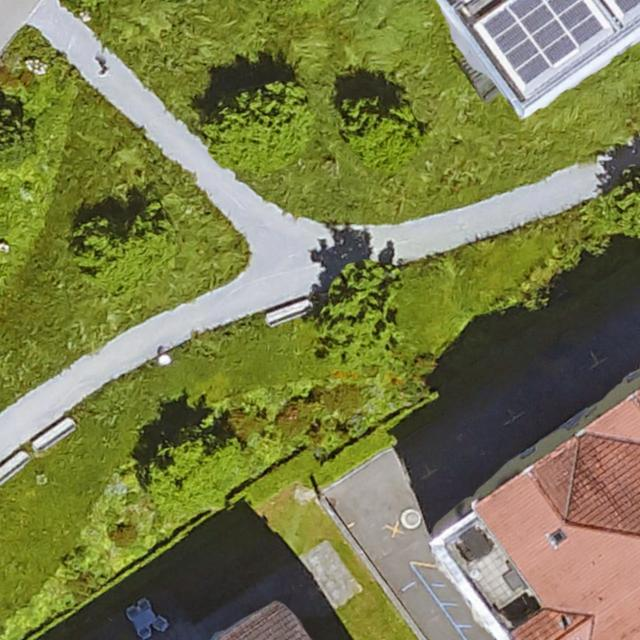tree: (205, 81, 310, 162), (75, 216, 178, 297), (142, 429, 235, 509), (324, 260, 402, 353), (339, 88, 424, 157), (594, 175, 640, 237), (0, 99, 39, 162)
